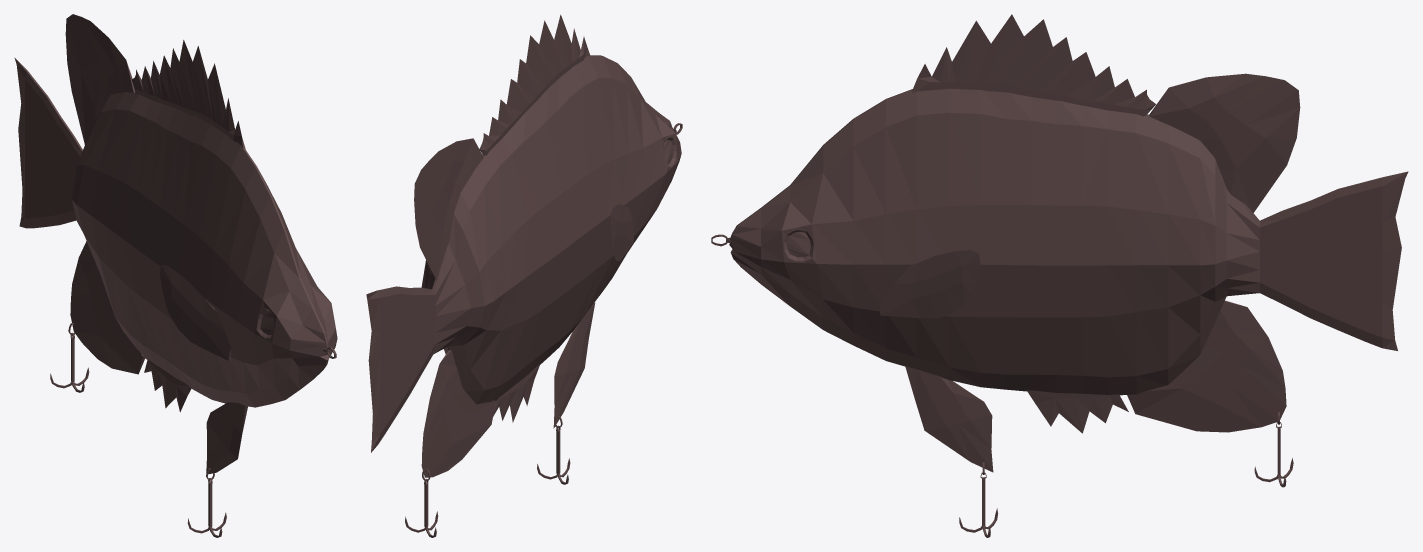
File: Fishing_Bait6.fbx
The picture shows the model from 3 angles, left to right: view 1: azimuth 30°, elevation 25°; view 2: azimuth 150°, elevation 25°; view 3: azimuth 270°, elevation 25°; orthographic projection. The views are drawn at different scales.
Visible parts, largest first — view 1: Fish; view 2: Fish; view 3: Fish.
Part boxes in pixels (left/top/right/bottom): Fish: left=14, top=14, right=337, bottom=537; Fish: left=366, top=14, right=682, bottom=537; Fish: left=711, top=14, right=1408, bottom=537.
Size of the model in its own units: 31.33 by 138 by 168.
